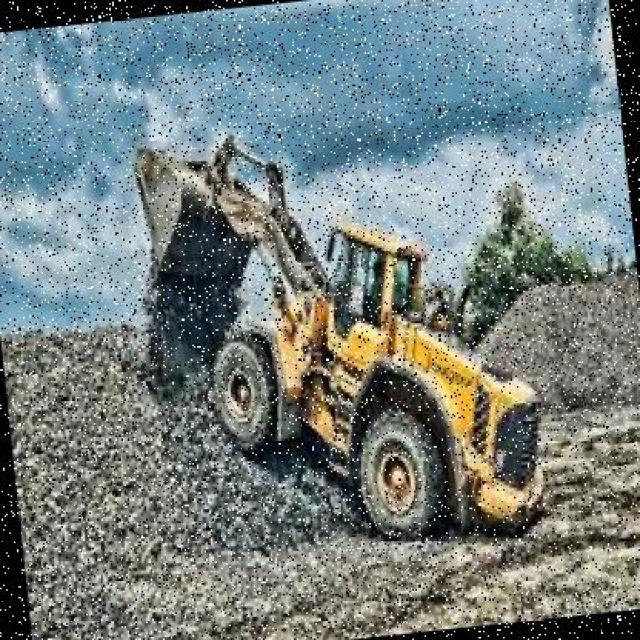buldozerpayloadergrader: (116, 82, 567, 563)
